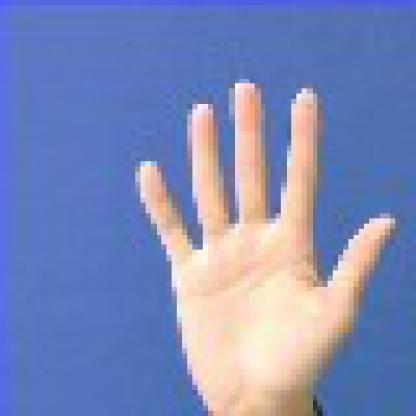five: (119, 67, 410, 410)
